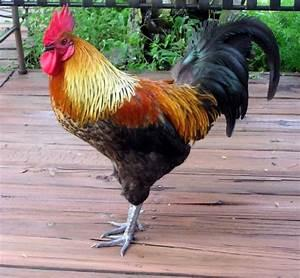hen: (38, 3, 281, 257)
